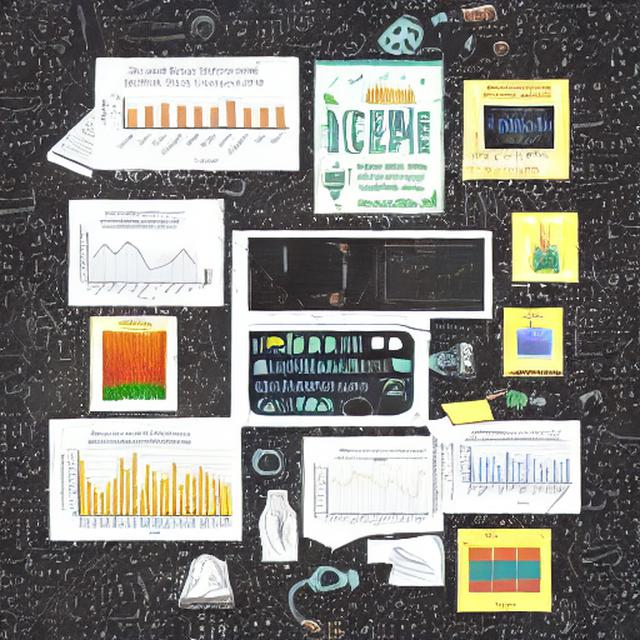Graph: (98, 62, 293, 168), (56, 437, 231, 536), (76, 219, 203, 303), (449, 436, 576, 511), (310, 454, 431, 528), (371, 242, 484, 311), (486, 106, 554, 147), (361, 76, 415, 108)
